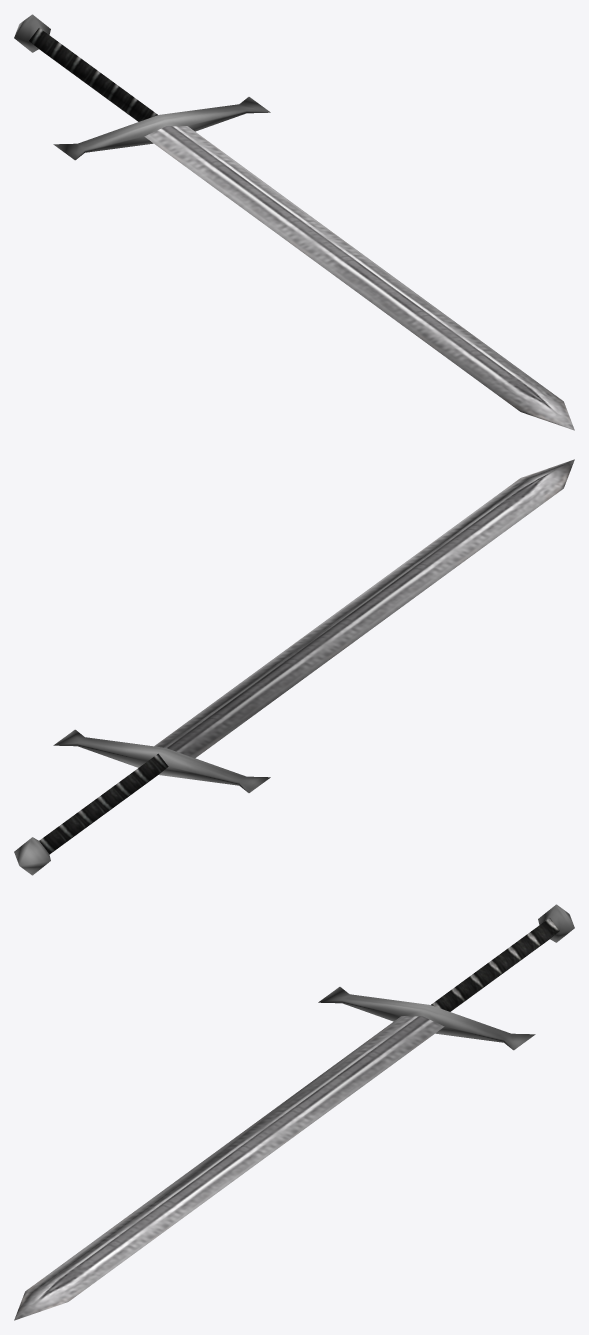
The model's file is spadone.glb.
The picture shows the model from 3 angles, top to bottom: view 1: azimuth 30°, elevation 25°; view 2: azimuth 150°, elevation 25°; view 3: azimuth 330°, elevation 25°; orthographic projection.
Parts seen in each view (by area): view 1: two_handed_sword_1; view 2: two_handed_sword_1; view 3: two_handed_sword_1.
Part boxes in pixels (x1=…): two_handed_sword_1: x1=14, y1=14, x2=574, y2=430; two_handed_sword_1: x1=14, y1=459, x2=574, y2=875; two_handed_sword_1: x1=14, y1=904, x2=574, y2=1320.
Size of the model in its own units: 0.6899 by 0.1303 by 3.39.
1 material, 1 textured.
